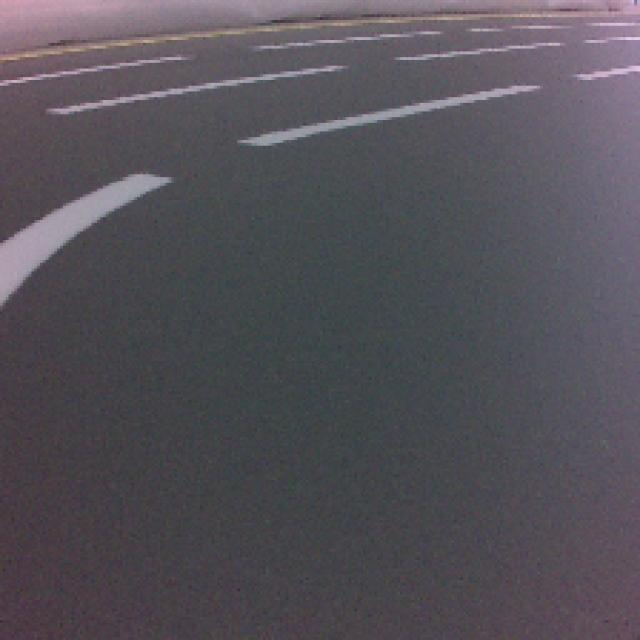Guard rail: (0, 170, 170, 307)
